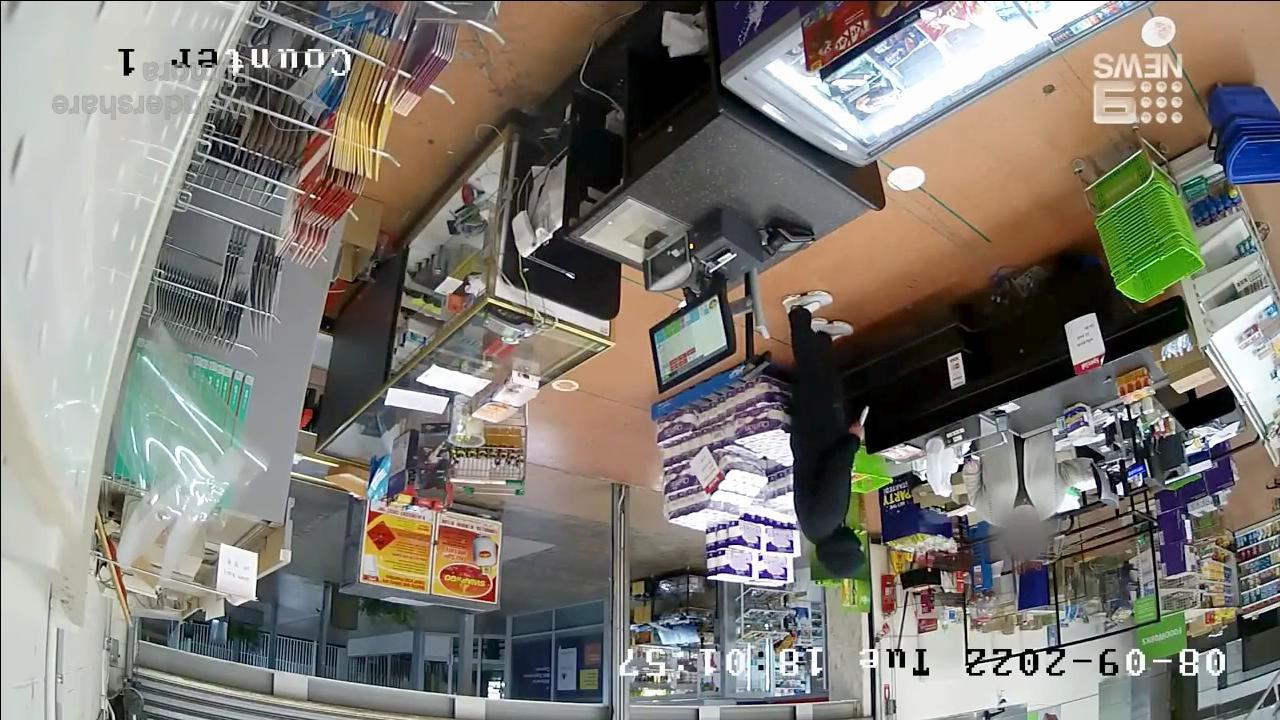gun: (845, 401, 872, 441)
